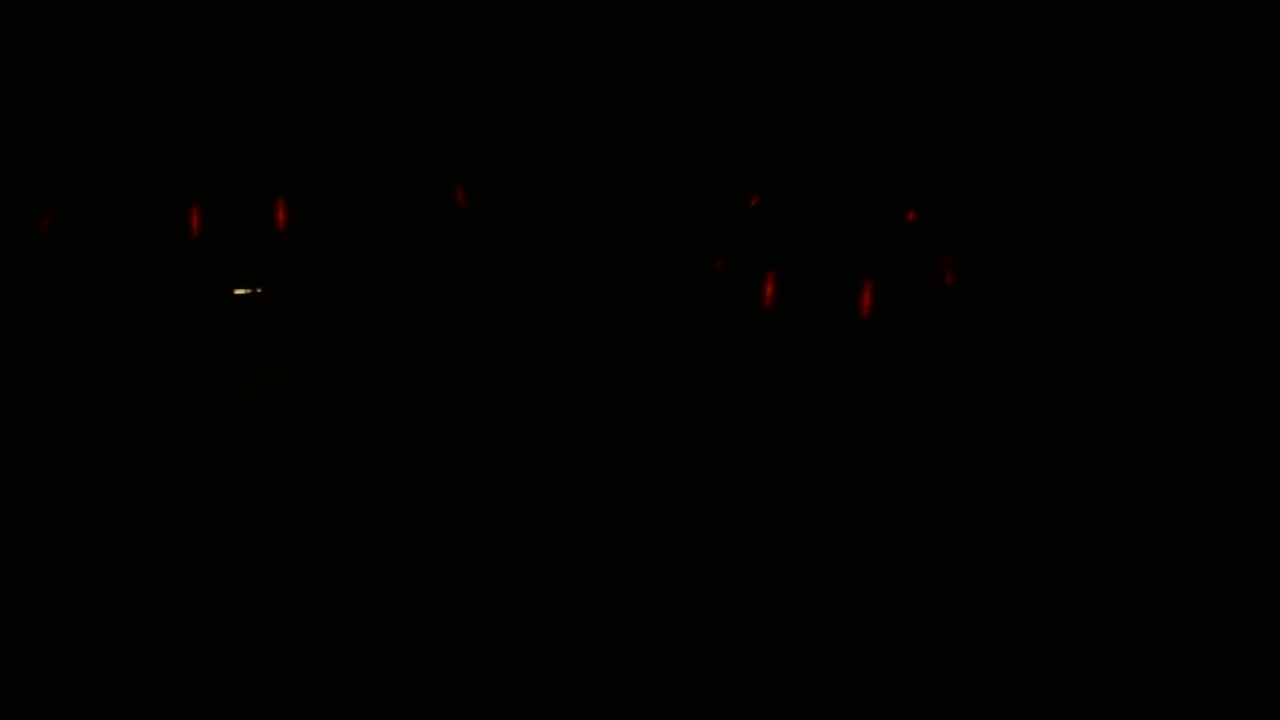pair1: (174, 188, 301, 251)
pair2: (750, 266, 886, 329)
